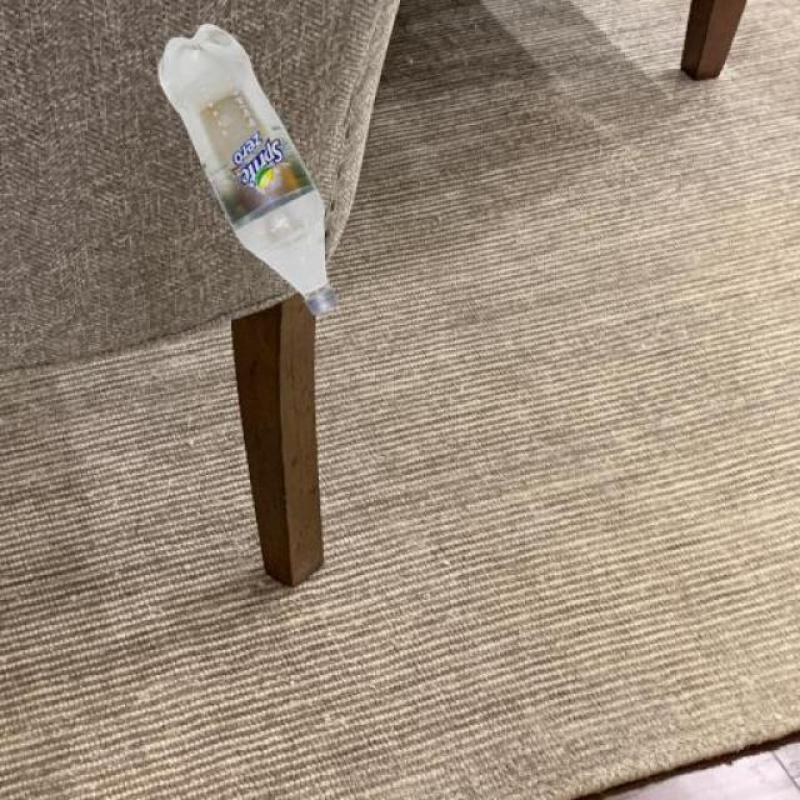botella: (150, 27, 338, 321)
